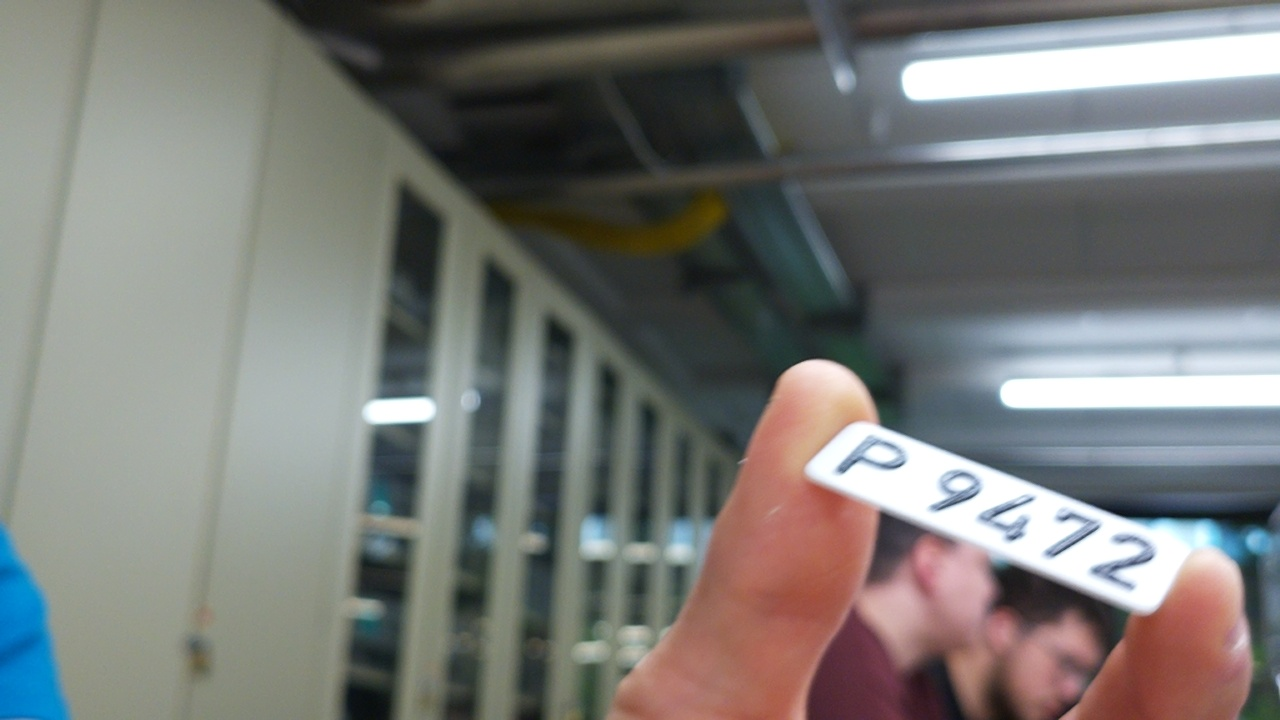license_plate: (800, 416, 1195, 618)
